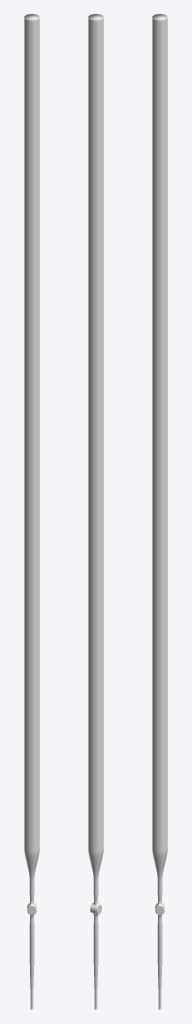
File: burette fluid (new) (1).fbx
The picture shows the model from 3 angles, left to right: view 1: azimuth 90°, elevation 25°; view 2: azimuth 150°, elevation 25°; view 3: azimuth 270°, elevation 25°; orthographic projection.
Visible parts, largest first — view 1: burette fluid.002, burette fluid.001; view 2: burette fluid.002, burette fluid.001; view 3: burette fluid.002, burette fluid.001.
Part boxes in pixels (left/top/right/bottom): burette fluid.002: left=24, top=18, right=39, bottom=851; burette fluid.001: left=24, top=849, right=39, bottom=1009; burette fluid.002: left=88, top=18, right=103, bottom=851; burette fluid.001: left=88, top=849, right=103, bottom=1009; burette fluid.002: left=152, top=18, right=167, bottom=851; burette fluid.001: left=152, top=849, right=167, bottom=1009.
Size of the model in its own units: 1.03 by 71.75 by 1.03.
